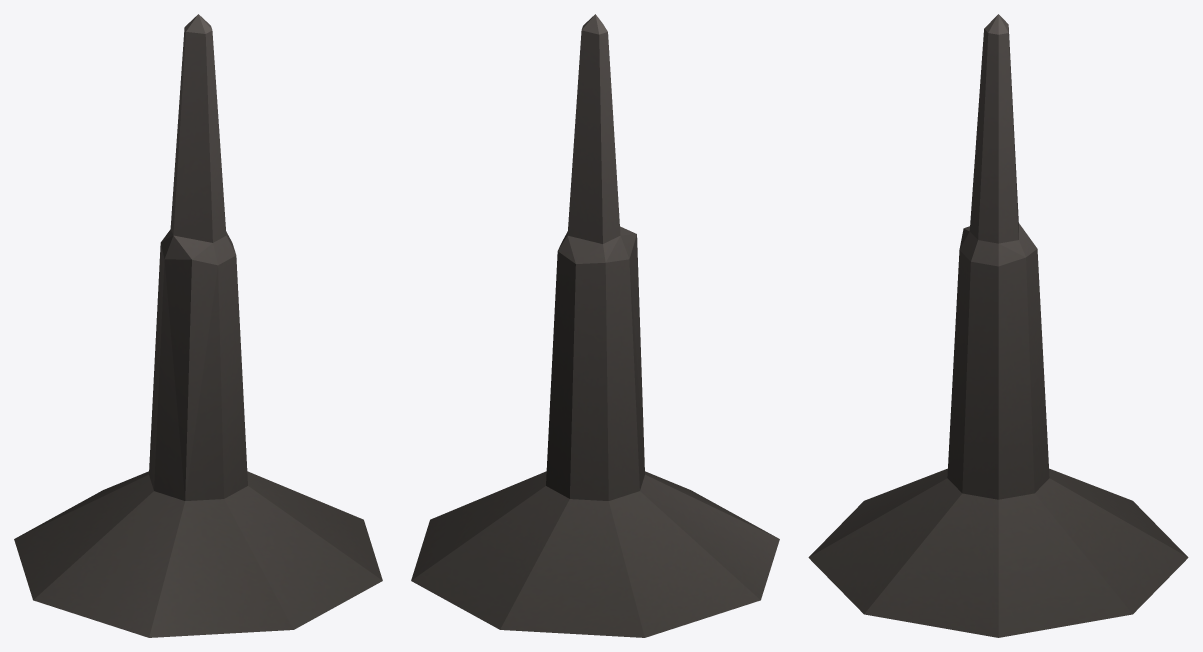
File: Stal_4B.fbx
3 views of the same model, side by side, from view 1: azimuth 30°, elevation 25°; view 2: azimuth 150°, elevation 25°; view 3: azimuth 270°, elevation 25° (orthographic).
Parts seen in each view (by area): view 1: pCone8; view 2: pCone8; view 3: pCone8.
Boxes of the visible parts, x1,y1,x2,y2 form: pCone8: (14,14,382,637); pCone8: (411,14,779,637); pCone8: (808,14,1188,637).
Size of the model in its own units: 158 by 250 by 158.
1 material, 1 textured.
